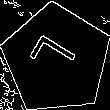L_SE: (28, 33, 86, 85)
